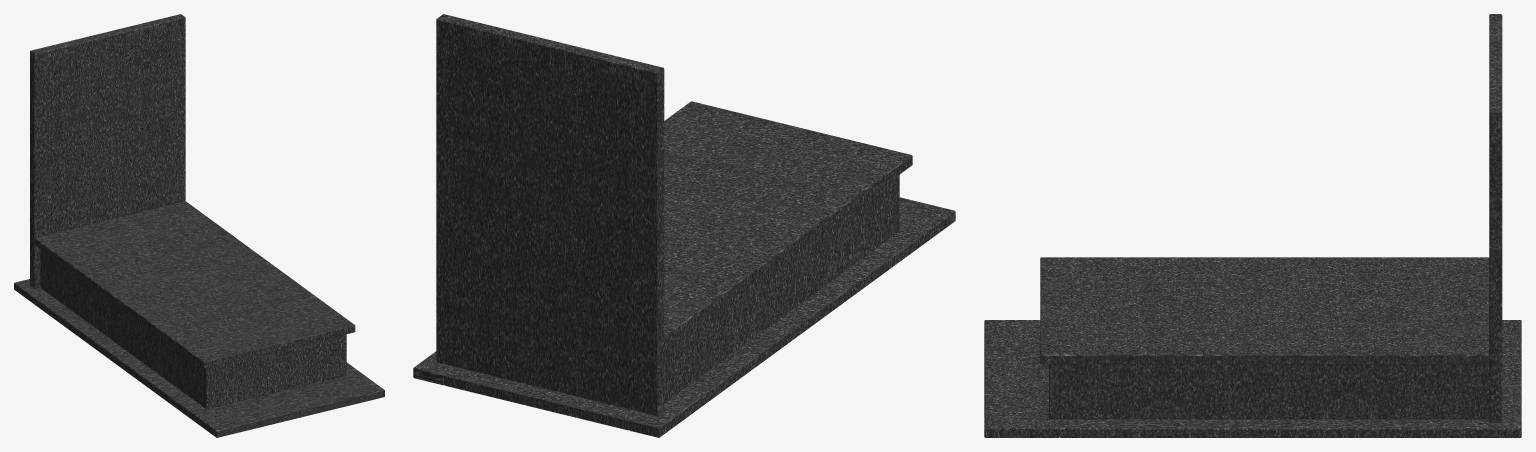
Rendered from grave.glb.
The picture shows the model from 3 angles, left to right: view 1: azimuth 30°, elevation 25°; view 2: azimuth 150°, elevation 25°; view 3: azimuth 270°, elevation 25°; orthographic projection. The views are drawn at different scales.
Visible parts, largest first — view 1: pCube9, pCube10, pCube6, pCube5, pCube1, pCube3; view 2: pCube9, pCube10, pCube6, pCube3, pCube4, pCube1, pCube2; view 3: pCube10, pCube7, pCube2, pCube1, pCube9, pCube4, pCube5.
Part boxes in pixels (x1,y1,x2,y2): pCube9: (30,14,185,288); pCube10: (34,201,355,368); pCube6: (40,249,202,406); pCube5: (202,334,346,409); pCube1: (188,369,384,437); pCube3: (14,279,202,416); pCube9: (436,14,664,416); pCube10: (664,101,912,346); pCube6: (664,179,893,402); pCube3: (629,236,914,437); pCube4: (444,367,640,430); pCube1: (893,197,955,250); pCube2: (413,351,455,385); pCube10: (1040,257,1489,364); pCube7: (1059,364,1489,419); pCube2: (1059,415,1521,437); pCube1: (984,320,1059,437); pCube9: (1489,14,1502,422); pCube4: (1502,333,1521,415); pCube5: (1049,364,1059,419).
Bounding box in the file's own units: 120 × 165 × 250.
1 material, 1 textured.
